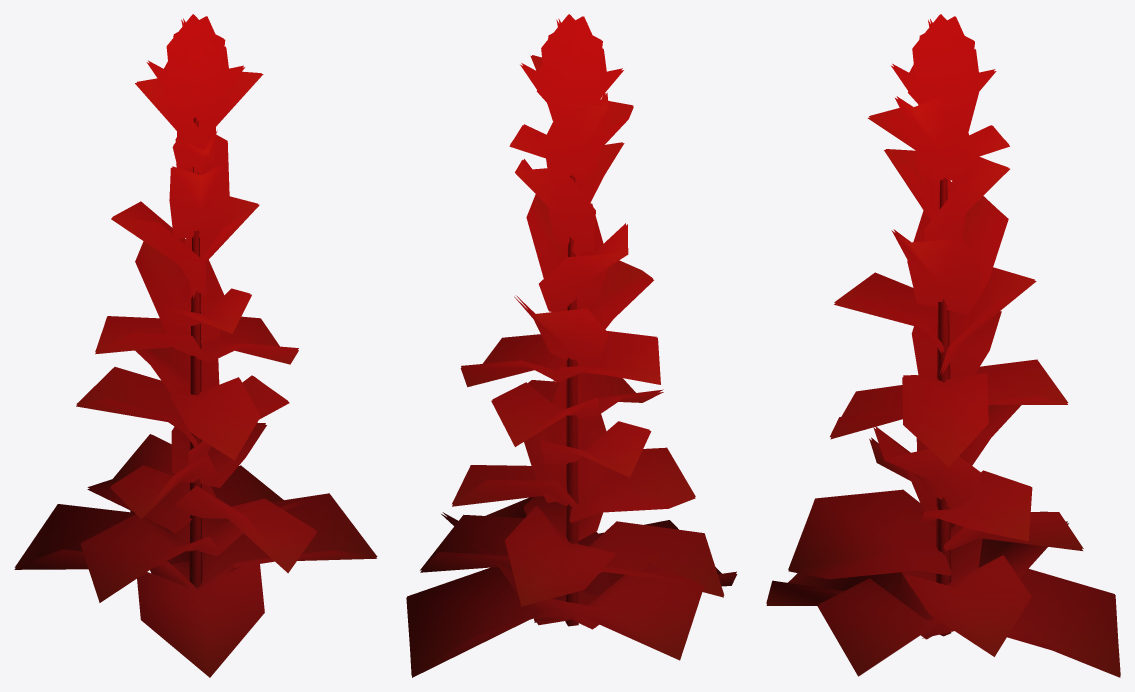
Rendered from TinyW01_high.FBX.
3 views of the same model, side by side, from view 1: azimuth 30°, elevation 25°; view 2: azimuth 150°, elevation 25°; view 3: azimuth 270°, elevation 25° (orthographic). The views are drawn at different scales.
Parts seen in each view (by area): view 1: TinyW01_high; view 2: TinyW01_high; view 3: TinyW01_high.
Boxes of the visible parts, x1,y1,x2,y2 form: TinyW01_high: [14, 14, 377, 677]; TinyW01_high: [406, 14, 737, 677]; TinyW01_high: [766, 14, 1120, 677].
Size of the model in its own units: 0.5946 by 1.16 by 0.6013.
